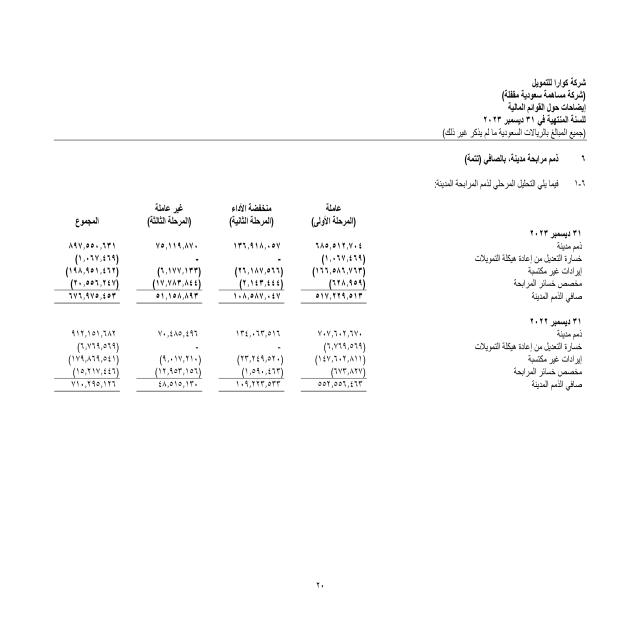notes: (494, 101, 592, 116)
table: (46, 197, 378, 413)
